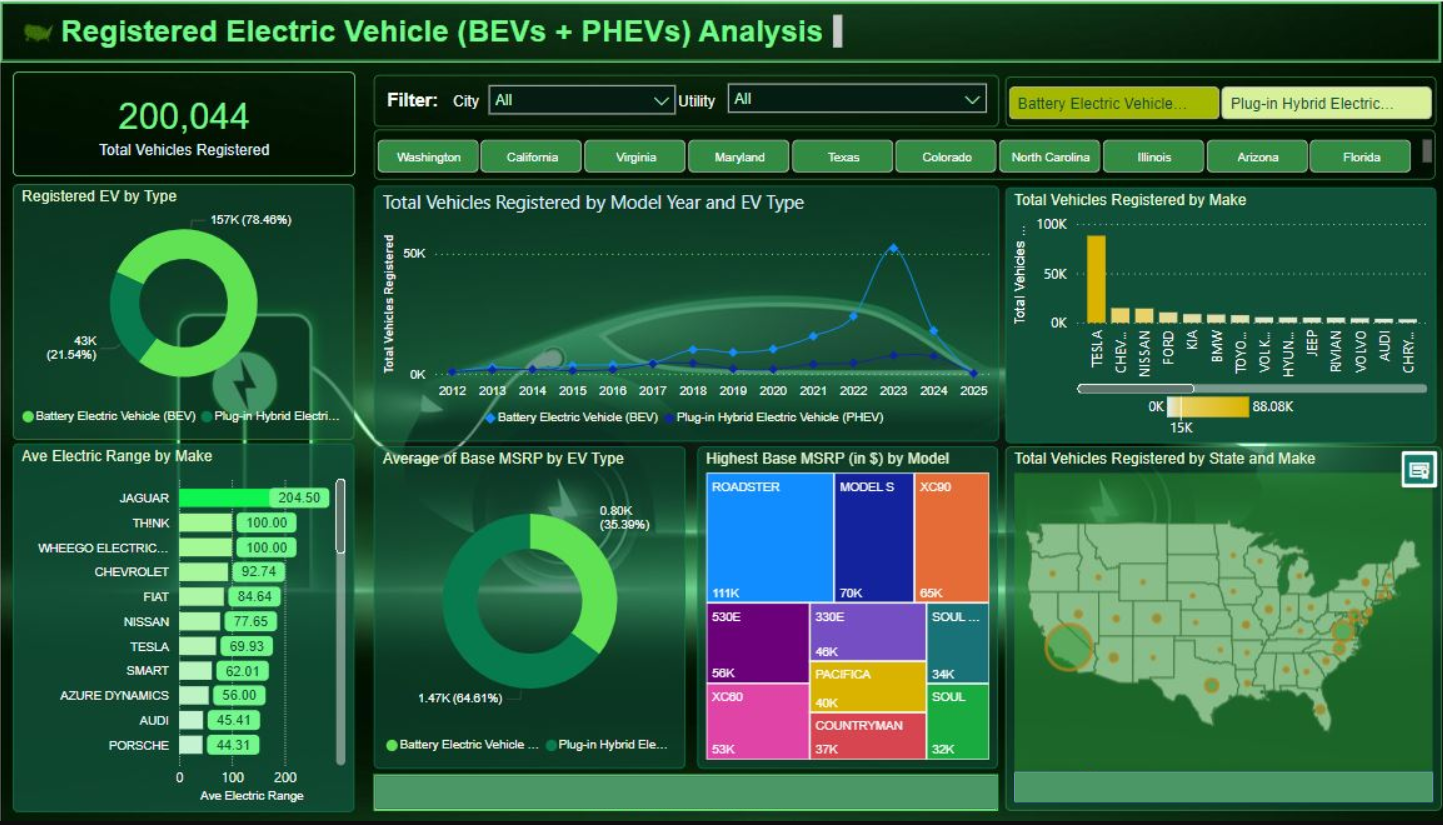

What the dashboard file says about the page in this screenshot:
{"tool":"powerbi","page":{"name":"Page 1","canvas":[1280,720],"ordinal":0},"visuals":[{"type":"card","fields":{"Values":["Measures (2).Total Vehicles Registered"]},"box":[10.7,61.9,301.2,91.7],"z":0},{"type":"areaChart","title":"Total Vehicles Registered by Model Year and EV Type","fields":{"Category":["Electric_Vehicle_Population_Data.Model Year"],"Y":["Measures (2).Total Vehicles Registered"],"Series":["Electric_Vehicle_Population_Data.Electric Vehicle Type"]},"box":[328.6,161.9,548.8,225],"z":1000},{"type":"shape","box":[0,0,1265.2,53.5],"z":2000},{"type":"textbox","box":[47.6,7.1,696.4,39.3],"z":3000},{"type":"shape","box":[327.4,64.3,548.8,45.2],"z":4000},{"type":"slicer","fields":{"Values":["Electric_Vehicle_Population_Data.City"]},"box":[417.9,63.1,184.5,46.4],"z":5000},{"type":"textbox","box":[334.5,72.6,63.1,33.3],"z":6000},{"type":"textbox","box":[392.9,72.6,48.8,32.1],"z":7000},{"type":"textbox","box":[590.5,72.6,59.5,32.1],"z":8000},{"type":"slicer","fields":{"Values":["Electric_Vehicle_Population_Data.Electric Utility"]},"box":[628.6,61.9,247.6,45.2],"z":9000},{"type":"image","box":[11.2,13.8,45,27.5],"z":10000},{"type":"donutChart","title":"Registered EV by Type","fields":{"Category":["Electric_Vehicle_Population_Data.Electric Vehicle Type"],"Y":["Measures (2).Total Vehicles Registered"]},"box":[10.7,160.7,300,225],"z":11000},{"type":"clusteredColumnChart","fields":{"Category":["Electric_Vehicle_Population_Data.Make"],"Y":["Measures (2).Total Vehicles Registered"]},"box":[882.1,163.1,378.6,225],"z":12000},{"type":"clusteredBarChart","title":"Ave Electric Range by Make","fields":{"Y":["Avg(Electric_Vehicle_Population_Data.Electric Range)"],"Category":["Electric_Vehicle_Population_Data.Make"]},"box":[10.7,388.1,300,323.8],"z":13000},{"type":"advancedSlicerVisual","title":"Total Vehicles Registered by Type","fields":{"Values":["Electric_Vehicle_Population_Data.Electric Vehicle Type"]},"box":[882.1,65.5,378.6,44],"z":14000},{"type":"donutChart","title":"Average of Base MSRP by EV Type","fields":{"Y":["Avg(Electric_Vehicle_Population_Data.Base MSRP)"],"Series":["Electric_Vehicle_Population_Data.Electric Vehicle Type"]},"box":[328.6,391.7,273.8,283.3],"z":15000},{"type":"MapBySquillion","fields":{"category":["States.State"],"latitude":["Electric_Vehicle_Population_Data.Make"],"bubble":["Measures (2).Total Vehicles Registered"]},"box":[882.1,391.7,383.3,320.2],"z":16000},{"type":"advancedSlicerVisual","title":"Total Vehicles Registered by Type","fields":{"Values":["States.State"]},"box":[328.6,111.9,932.1,44],"z":17000},{"type":"treemap","title":"Highest Base MSRP (in $) by Model","fields":{"Group":["Electric_Vehicle_Population_Data.Model"],"Values":["Max(Electric_Vehicle_Population_Data.Base MSRP)"]},"box":[611.9,391.7,264.3,283.3],"z":18000},{"type":"shape","box":[328.6,679.8,547.6,32.1],"z":19000},{"type":"textbox","box":[348.8,684.5,508.3,27.4],"z":20000}]}

Visuals, with their boxes in screenshot pixels (x1, y1, x2, y2), scaled from the page's 1280x720 canvas onto the 1443x825 screenshot:
card - Measures (2).Total Vehicles Registered: [left=12, top=71, right=352, bottom=176]
"Total Vehicles Registered by Model Year and EV Type" areaChart: [left=370, top=186, right=989, bottom=443]
shape: [left=0, top=0, right=1426, bottom=61]
textbox: [left=54, top=8, right=839, bottom=53]
shape: [left=369, top=74, right=988, bottom=125]
slicer - Electric_Vehicle_Population_Data.City: [left=471, top=72, right=679, bottom=125]
textbox: [left=377, top=83, right=448, bottom=121]
textbox: [left=443, top=83, right=498, bottom=120]
textbox: [left=666, top=83, right=733, bottom=120]
slicer - Electric_Vehicle_Population_Data.Electric Utility: [left=709, top=71, right=988, bottom=123]
image: [left=13, top=16, right=63, bottom=47]
"Registered EV by Type" donutChart: [left=12, top=184, right=350, bottom=442]
clusteredColumnChart - Electric_Vehicle_Population_Data.Make x Measures (2).Total Vehicles Registered: [left=994, top=187, right=1421, bottom=445]
"Ave Electric Range by Make" clusteredBarChart: [left=12, top=445, right=350, bottom=816]
"Total Vehicles Registered by Type" advancedSlicerVisual: [left=994, top=75, right=1421, bottom=125]
"Average of Base MSRP by EV Type" donutChart: [left=370, top=449, right=679, bottom=773]
MapBySquillion - States.State x Electric_Vehicle_Population_Data.Make: [left=994, top=449, right=1427, bottom=816]
"Total Vehicles Registered by Type" advancedSlicerVisual: [left=370, top=128, right=1421, bottom=179]
"Highest Base MSRP (in $) by Model" treemap: [left=690, top=449, right=988, bottom=773]
shape: [left=370, top=779, right=988, bottom=816]
textbox: [left=393, top=784, right=966, bottom=816]
